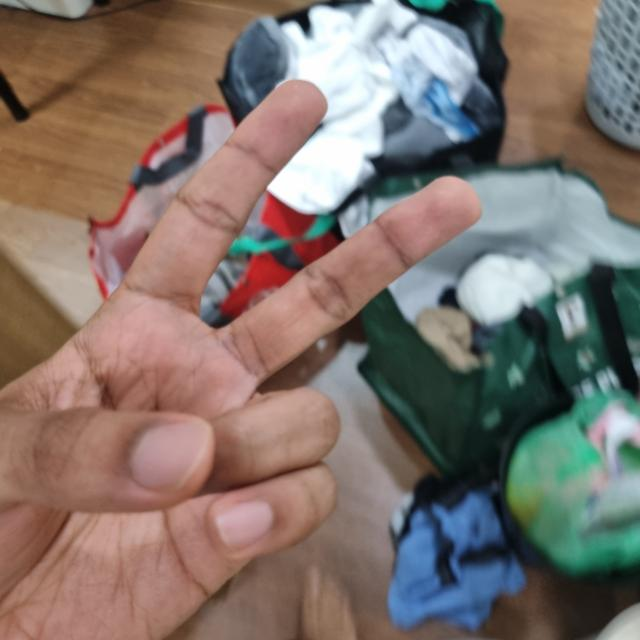Scissors: (0, 298, 346, 639)
